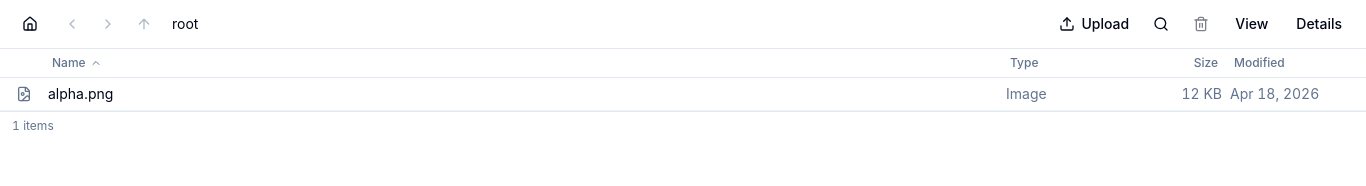
Test: FileExplorer — search UI (Phase 7.1) › clicking a search result opens its parent folder with the entry focused (Phase 7.4 integration)
This screenshot has width=1366, height=186.
Expected: the number of rows with test id "explorer-row" is 1, [0,78,1365,111]
# Trigger search and submit.
Click the button with test id "file-explorer-search-trigger" at (1161, 24), box [1143,8,1179,40]
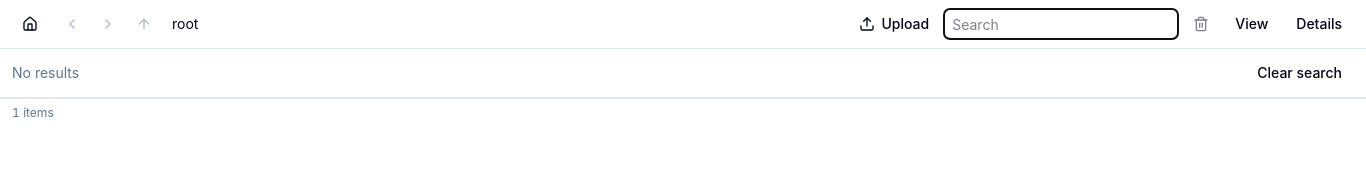
Type "read" into the search field at (1061, 24), box [943,8,1179,40]
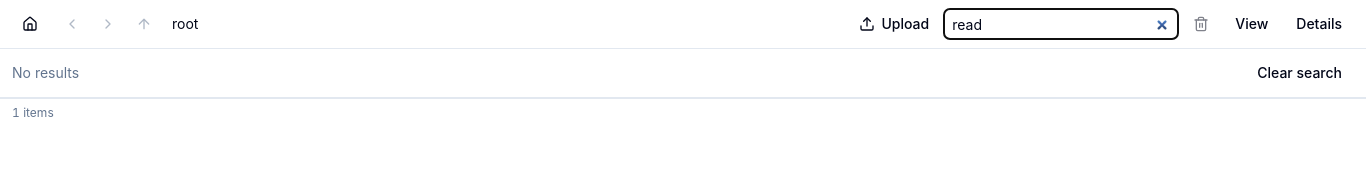
Press Enter in the search field, box [943,8,1179,40]
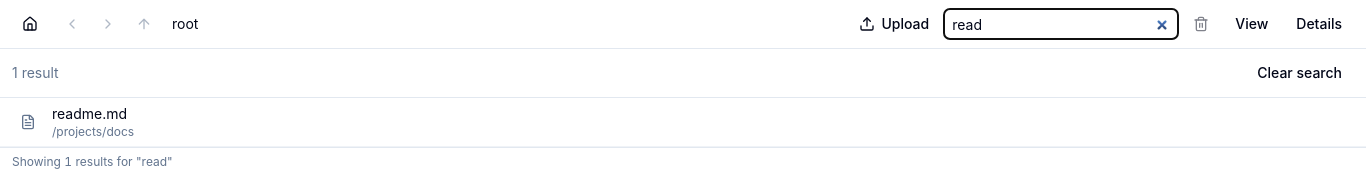
Result: the list with test id "file-explorer-search-results" is shown at [0,49,1365,147]
Result: the button with test id "file-explorer-search-result" is shown
Click the button with test id "file-explorer-search-result" at (90, 114), box [0,98,1365,147]
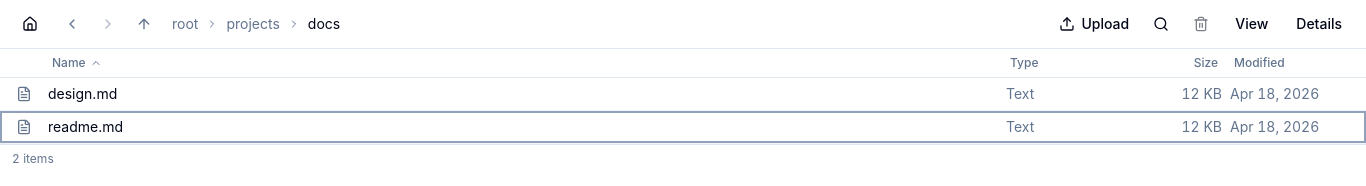
Result: the list with test id "file-explorer-search-results" is gone
Result: the number of rows with test id "explorer-row" is 2 at [0,78,1365,111]; [0,111,1365,144]
Result: the row with test id "explorer-row" is shown at [0,111,1365,144]
